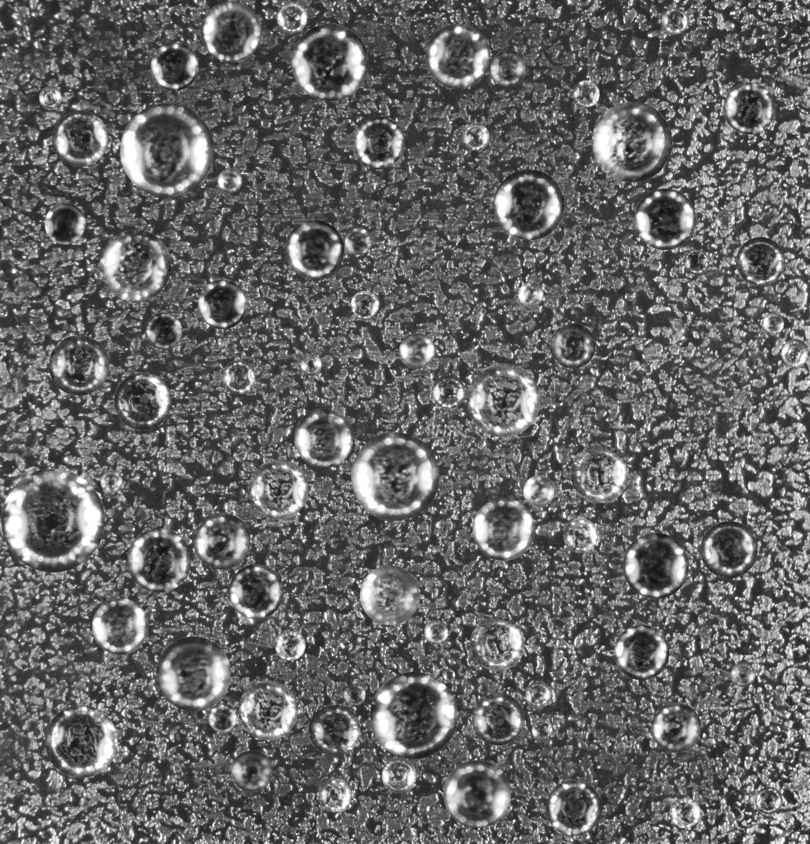Bubble: (1, 468, 104, 572), (120, 103, 213, 197), (351, 432, 439, 520), (370, 672, 457, 759), (592, 101, 672, 182), (291, 23, 368, 100), (156, 636, 230, 711), (466, 363, 540, 436), (99, 229, 171, 301), (45, 705, 117, 777), (493, 169, 564, 240), (443, 760, 511, 828), (623, 533, 688, 598), (425, 24, 490, 88), (127, 528, 191, 592), (472, 498, 535, 560), (634, 188, 695, 249), (48, 335, 109, 395), (200, 1, 260, 61), (248, 459, 308, 519), (238, 680, 297, 740), (360, 565, 419, 625), (294, 408, 353, 467), (285, 220, 344, 278), (570, 445, 628, 503), (114, 372, 171, 430), (700, 521, 757, 578), (193, 512, 250, 569), (92, 598, 148, 654), (52, 110, 107, 166), (614, 625, 669, 680), (228, 564, 283, 619), (546, 780, 601, 835), (470, 616, 524, 671), (723, 82, 775, 134), (472, 693, 524, 745), (308, 704, 360, 756), (354, 117, 405, 167), (651, 702, 701, 752), (197, 279, 247, 329), (736, 237, 785, 285), (150, 42, 198, 90), (550, 323, 595, 368), (231, 750, 272, 791), (44, 203, 85, 244), (145, 312, 182, 349), (490, 50, 526, 86), (399, 333, 434, 368), (381, 758, 416, 793), (563, 518, 598, 553), (431, 375, 465, 408), (318, 778, 351, 812), (222, 360, 255, 394), (523, 475, 554, 506), (669, 797, 700, 828), (274, 629, 305, 660), (276, 2, 307, 33), (208, 703, 236, 732), (781, 339, 809, 367), (351, 290, 379, 318), (572, 80, 599, 107), (755, 787, 782, 814), (462, 123, 489, 150), (344, 227, 371, 254), (661, 7, 688, 34), (525, 681, 551, 708), (684, 249, 709, 274), (518, 282, 543, 307), (730, 662, 755, 687), (424, 620, 448, 644), (217, 168, 241, 192), (39, 86, 61, 108), (100, 470, 122, 492), (762, 312, 784, 334), (343, 684, 365, 705), (300, 354, 321, 375), (531, 719, 552, 740), (716, 209, 735, 228), (442, 669, 455, 681), (543, 108, 555, 120)
